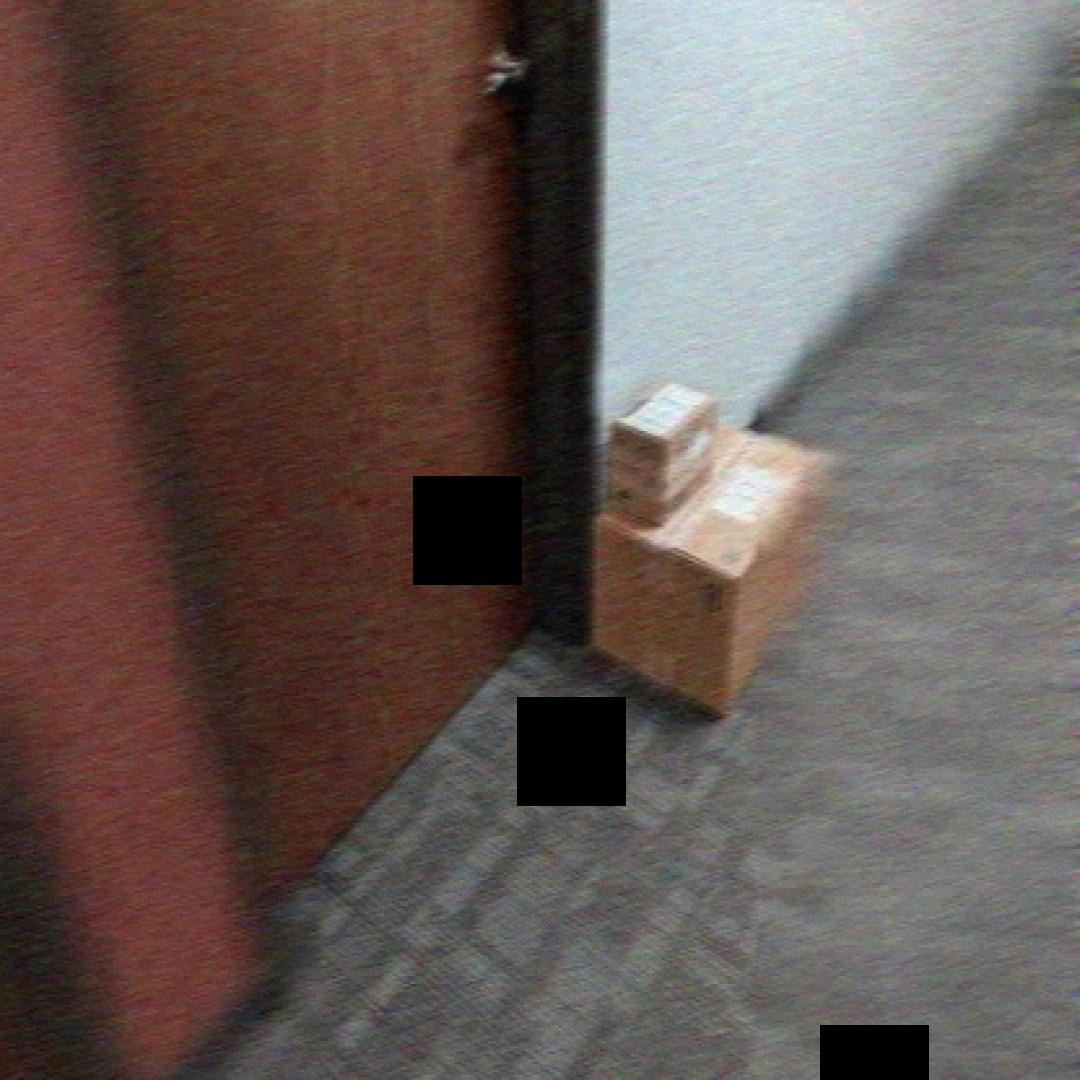package: (589, 410, 841, 719), (602, 374, 730, 530)
